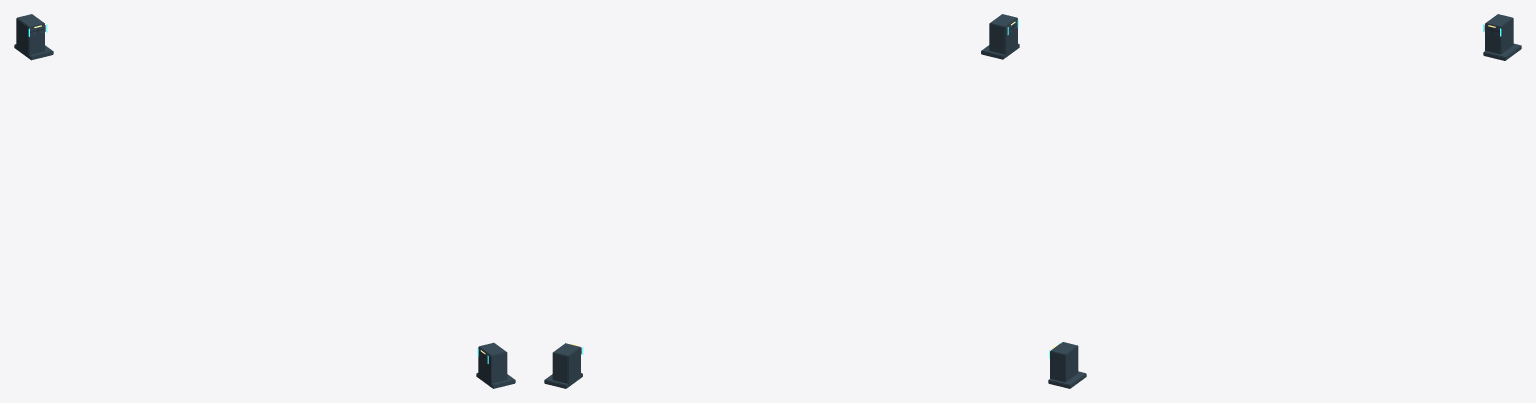
The model's file is upper-anchor-mounts.glb.
3 views of the same model, side by side, from view 1: azimuth 30°, elevation 25°; view 2: azimuth 150°, elevation 25°; view 3: azimuth 330°, elevation 25° (orthographic).
Visible parts, largest first — view 1: upper-anchor-mounts; view 2: upper-anchor-mounts; view 3: upper-anchor-mounts.
Boxes of the visible parts, x1=… form: upper-anchor-mounts: x1=14, y1=14, x2=515, y2=388; upper-anchor-mounts: x1=544, y1=14, x2=1019, y2=388; upper-anchor-mounts: x1=1048, y1=14, x2=1521, y2=388.
Bounding box in the file's own units: 1.03 × 0.94 × 24.9.
Materials: 4 (1 with a texture image).
